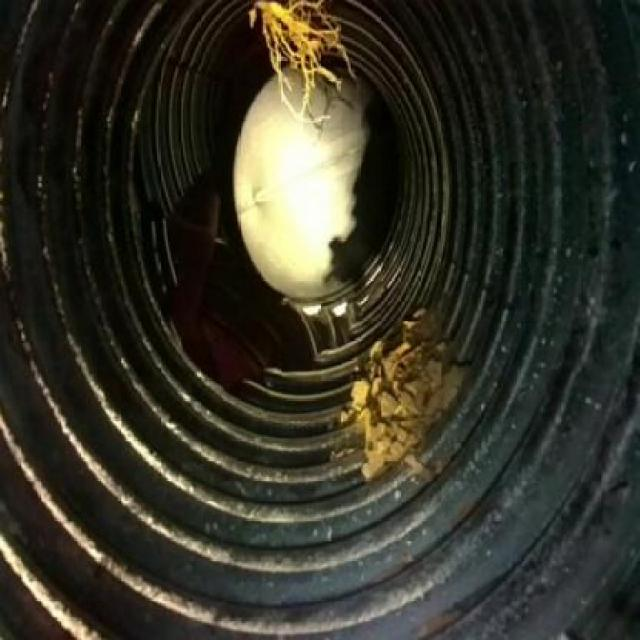dirt: (350, 317, 456, 476)
root: (214, 0, 376, 130)
